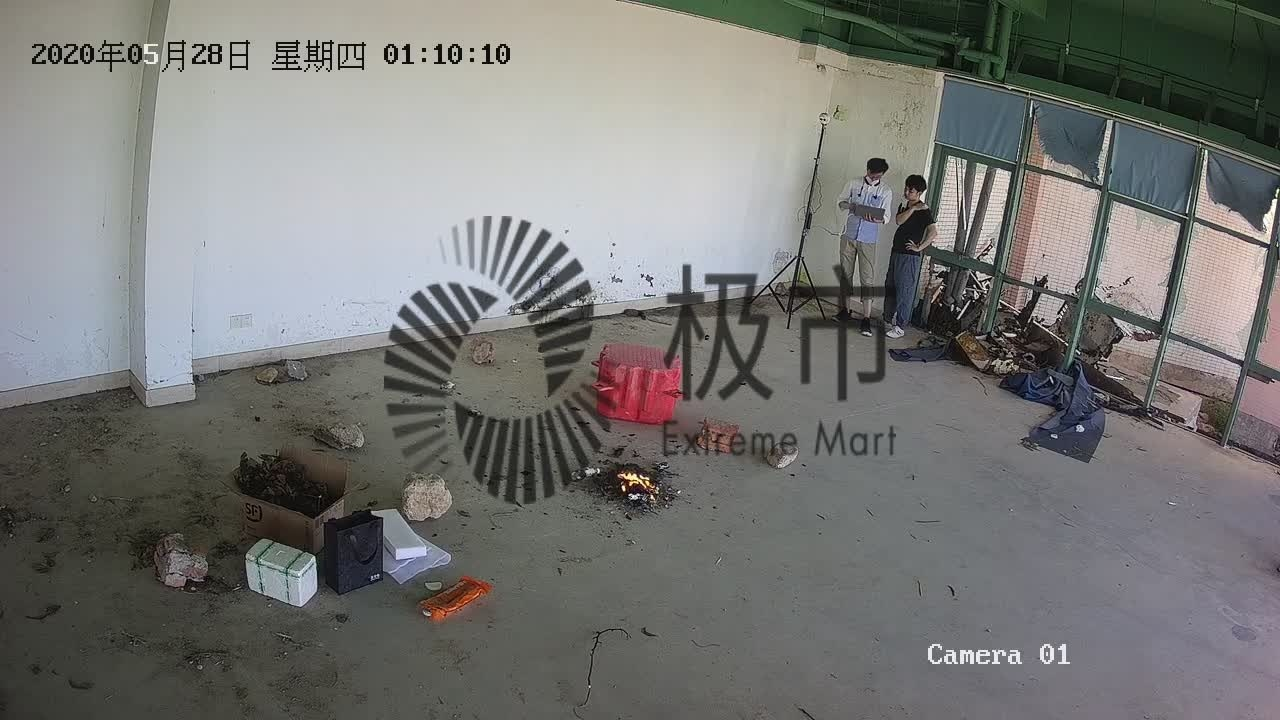fire: (422, 577, 491, 621), (611, 462, 664, 506)
